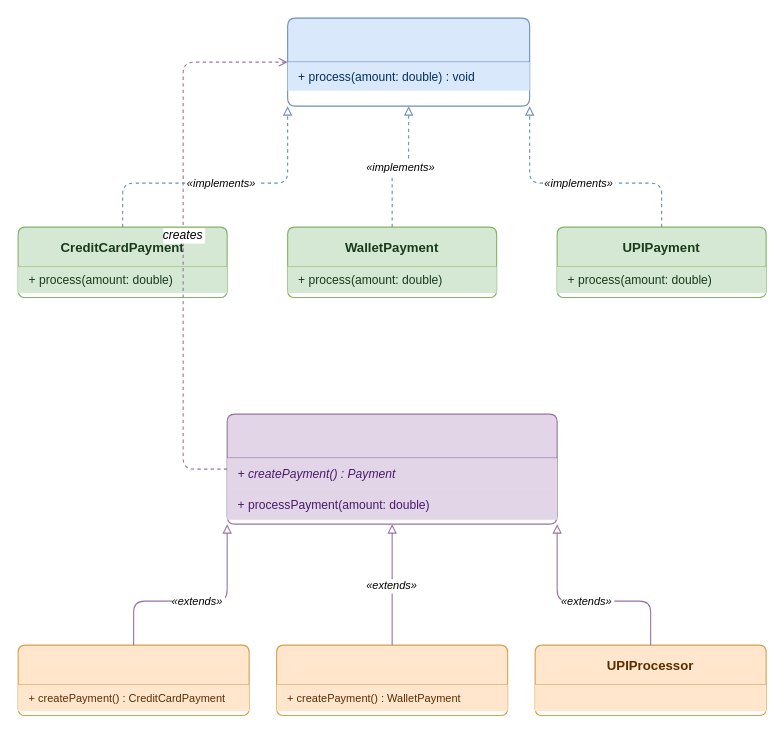
The diagram is 784 pixels wide and 734 high, and some of its shapes have lost their labels. Here are the shapes that lost their labels. From the top down, the box of each, then its label:
(287, 17, 530, 106): «interface» Payment
(226, 413, 557, 524): «abstract» PaymentProcessor
(17, 644, 249, 716): CreditCardProcessor
(276, 644, 508, 716): WalletProcessor
(535, 684, 766, 711): + createPayment() : UPIPayment
